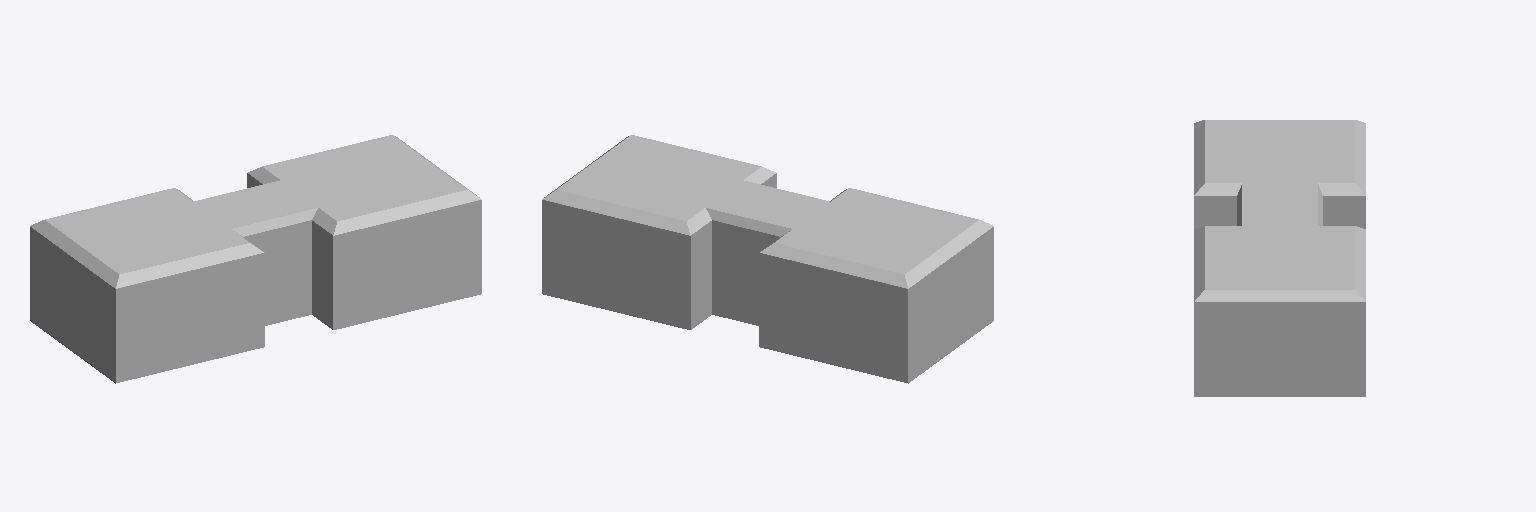
The model's file is NewBase2.obj.
The picture shows the model from 3 angles: view 1: azimuth 30°, elevation 25°; view 2: azimuth 150°, elevation 25°; view 3: azimuth 270°, elevation 25°; orthographic projection.
Visible parts, largest first — view 1: Cube.001_Cube; view 2: Cube.001_Cube; view 3: Cube.001_Cube.
Boxes of the visible parts, <box> form: Cube.001_Cube: <box>30,135,481,383</box>; Cube.001_Cube: <box>542,135,993,383</box>; Cube.001_Cube: <box>1194,120,1365,396</box>.
Size of the model in its own units: 9.12 by 2.44 by 3.71.